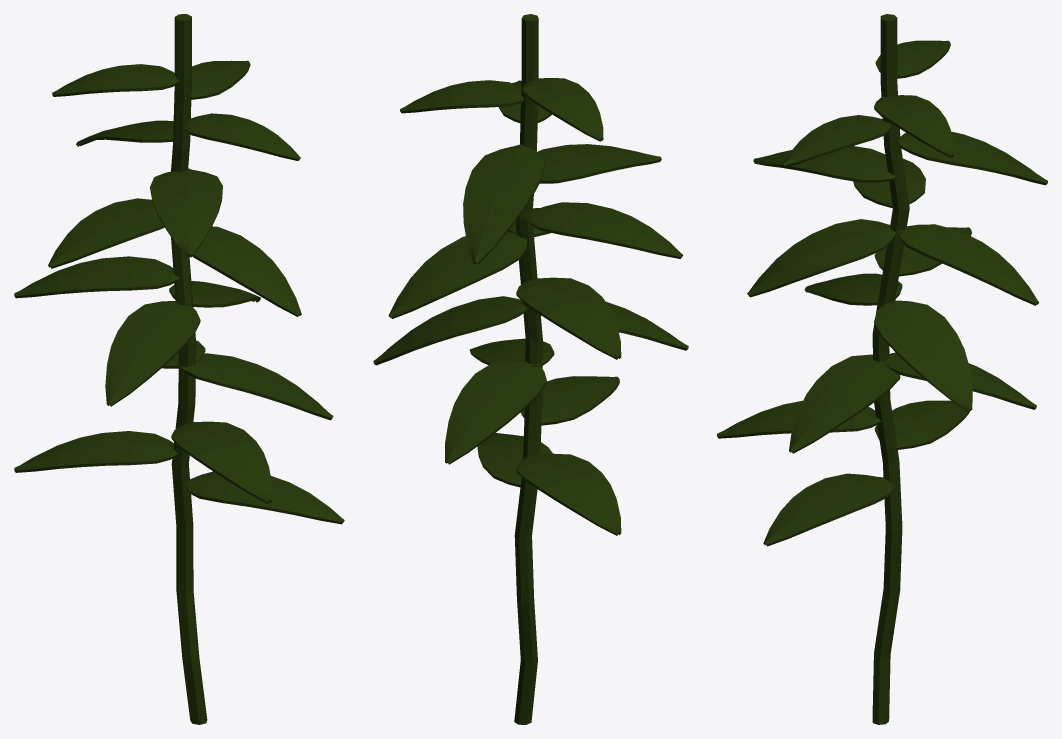
3 renders of one model, left to right at view 1: azimuth 30°, elevation 25°; view 2: azimuth 150°, elevation 25°; view 3: azimuth 270°, elevation 25°, orthographic.
Parts seen in each view (by area): view 1: Sea_Leaves_(Daun_laut).001; view 2: Sea_Leaves_(Daun_laut).001; view 3: Sea_Leaves_(Daun_laut).001.
Boxes of the visible parts, <box> form: Sea_Leaves_(Daun_laut).001: <box>14,14,344,724</box>; Sea_Leaves_(Daun_laut).001: <box>373,14,688,724</box>; Sea_Leaves_(Daun_laut).001: <box>717,14,1047,724</box>.
Size of the model in its own units: 4.58 by 11.94 by 5.13.
